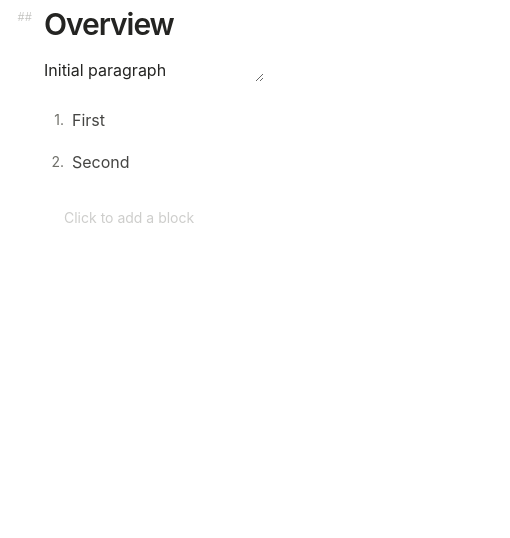
BlockEditor › opens the contextual AI composer from slash commands
Replace the text in the text box named "Paragraph" with "/" at (154, 70), box [44, 58, 264, 82]
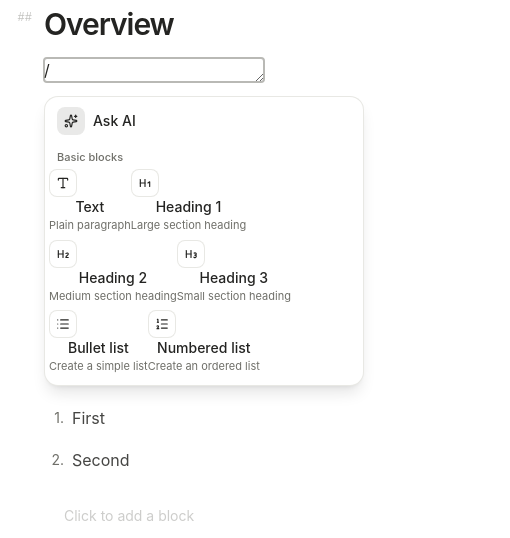
Click the button "Ask AI" at (114, 120), box [49, 100, 359, 140]
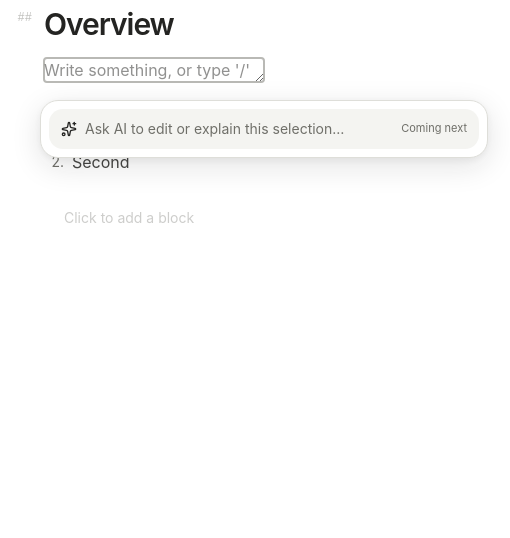
Now the field named "Ask AI about selection" is shown, box [85, 118, 393, 138]
